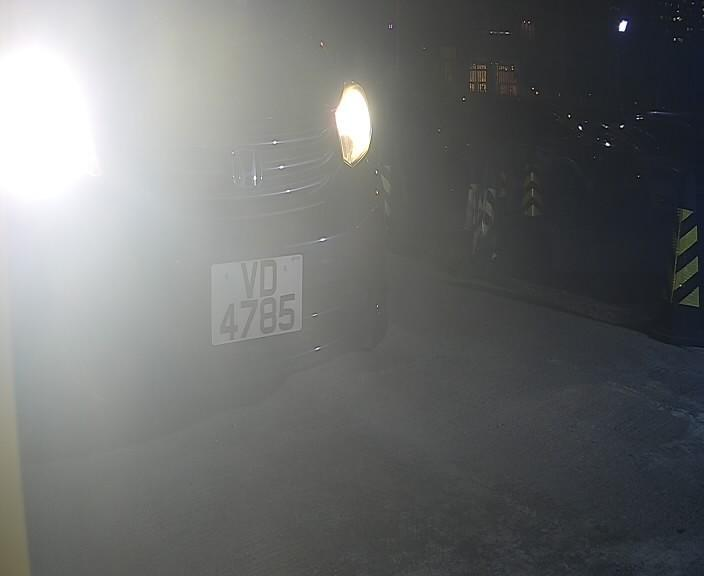Car: (7, 21, 535, 456)
License Plate: (205, 235, 312, 358)
